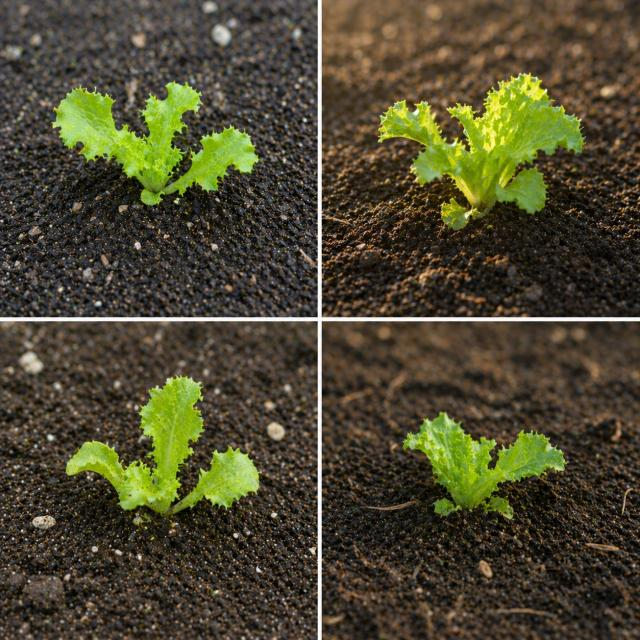verde: (379, 73, 583, 230), (66, 376, 259, 513), (52, 82, 258, 205), (403, 412, 565, 519)
